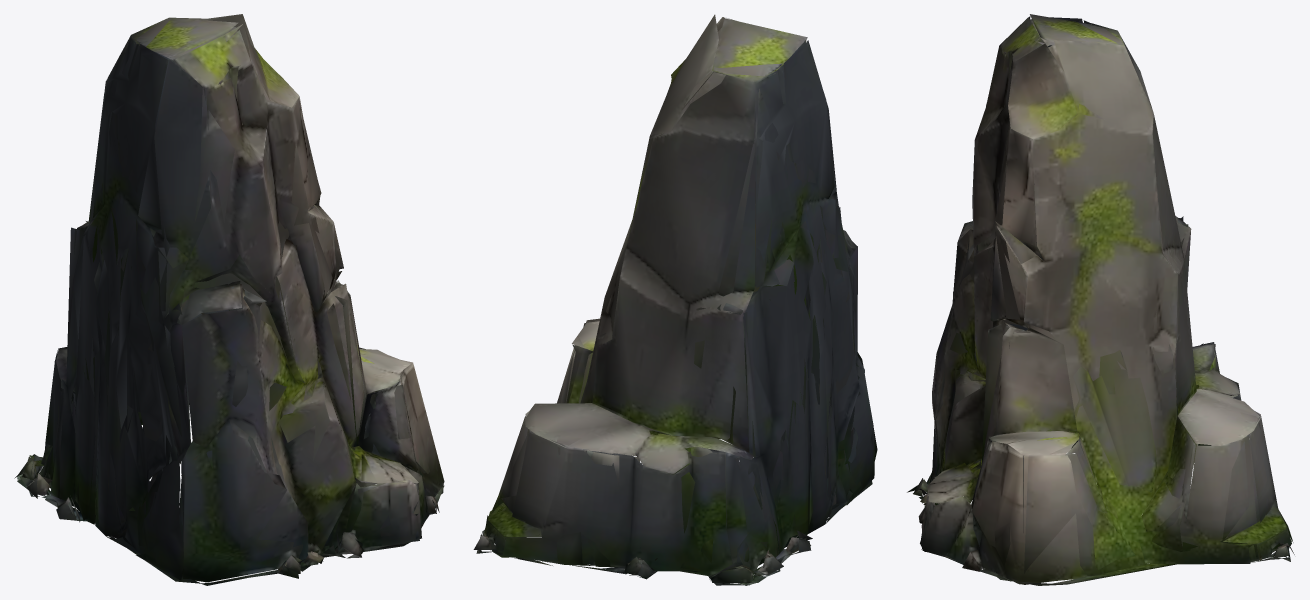
The model's file is Rock02_2k.glb.
3 views of the same model, side by side, from view 1: azimuth 30°, elevation 25°; view 2: azimuth 150°, elevation 25°; view 3: azimuth 270°, elevation 25° (orthographic). The views are drawn at different scales.
Parts seen in each view (by area): view 1: node_0; view 2: node_0; view 3: node_0.
Part boxes in pixels (<box>): node_0: <box>14,14,444,585</box>; node_0: <box>473,14,877,585</box>; node_0: <box>907,14,1294,585</box>.
Bounding box in the file's own units: 0.6269 × 0.9321 × 0.702.
1 material, 1 textured.
